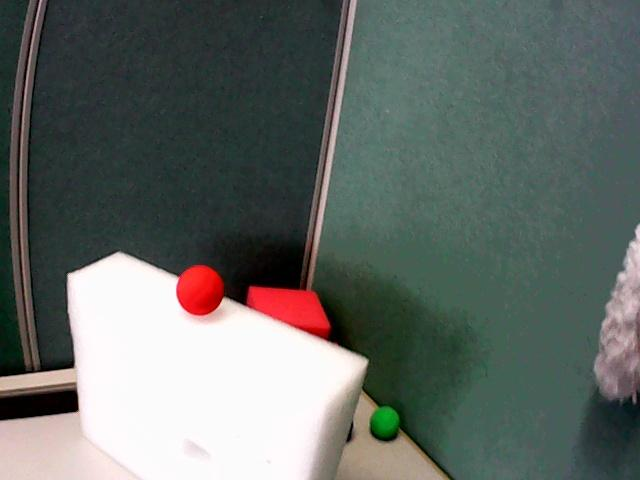red_block: (246, 286, 330, 338)
